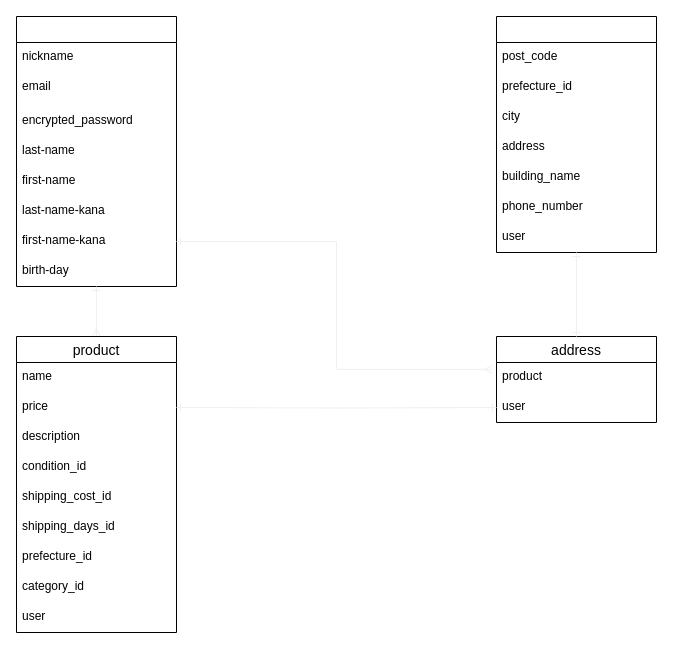
The diagram is 673 pixels wide and 649 high, and some of its shapes have lost their labels. Each missing label, with the box of its shape:
destination: (496, 16, 656, 252)
users: (16, 16, 176, 286)
